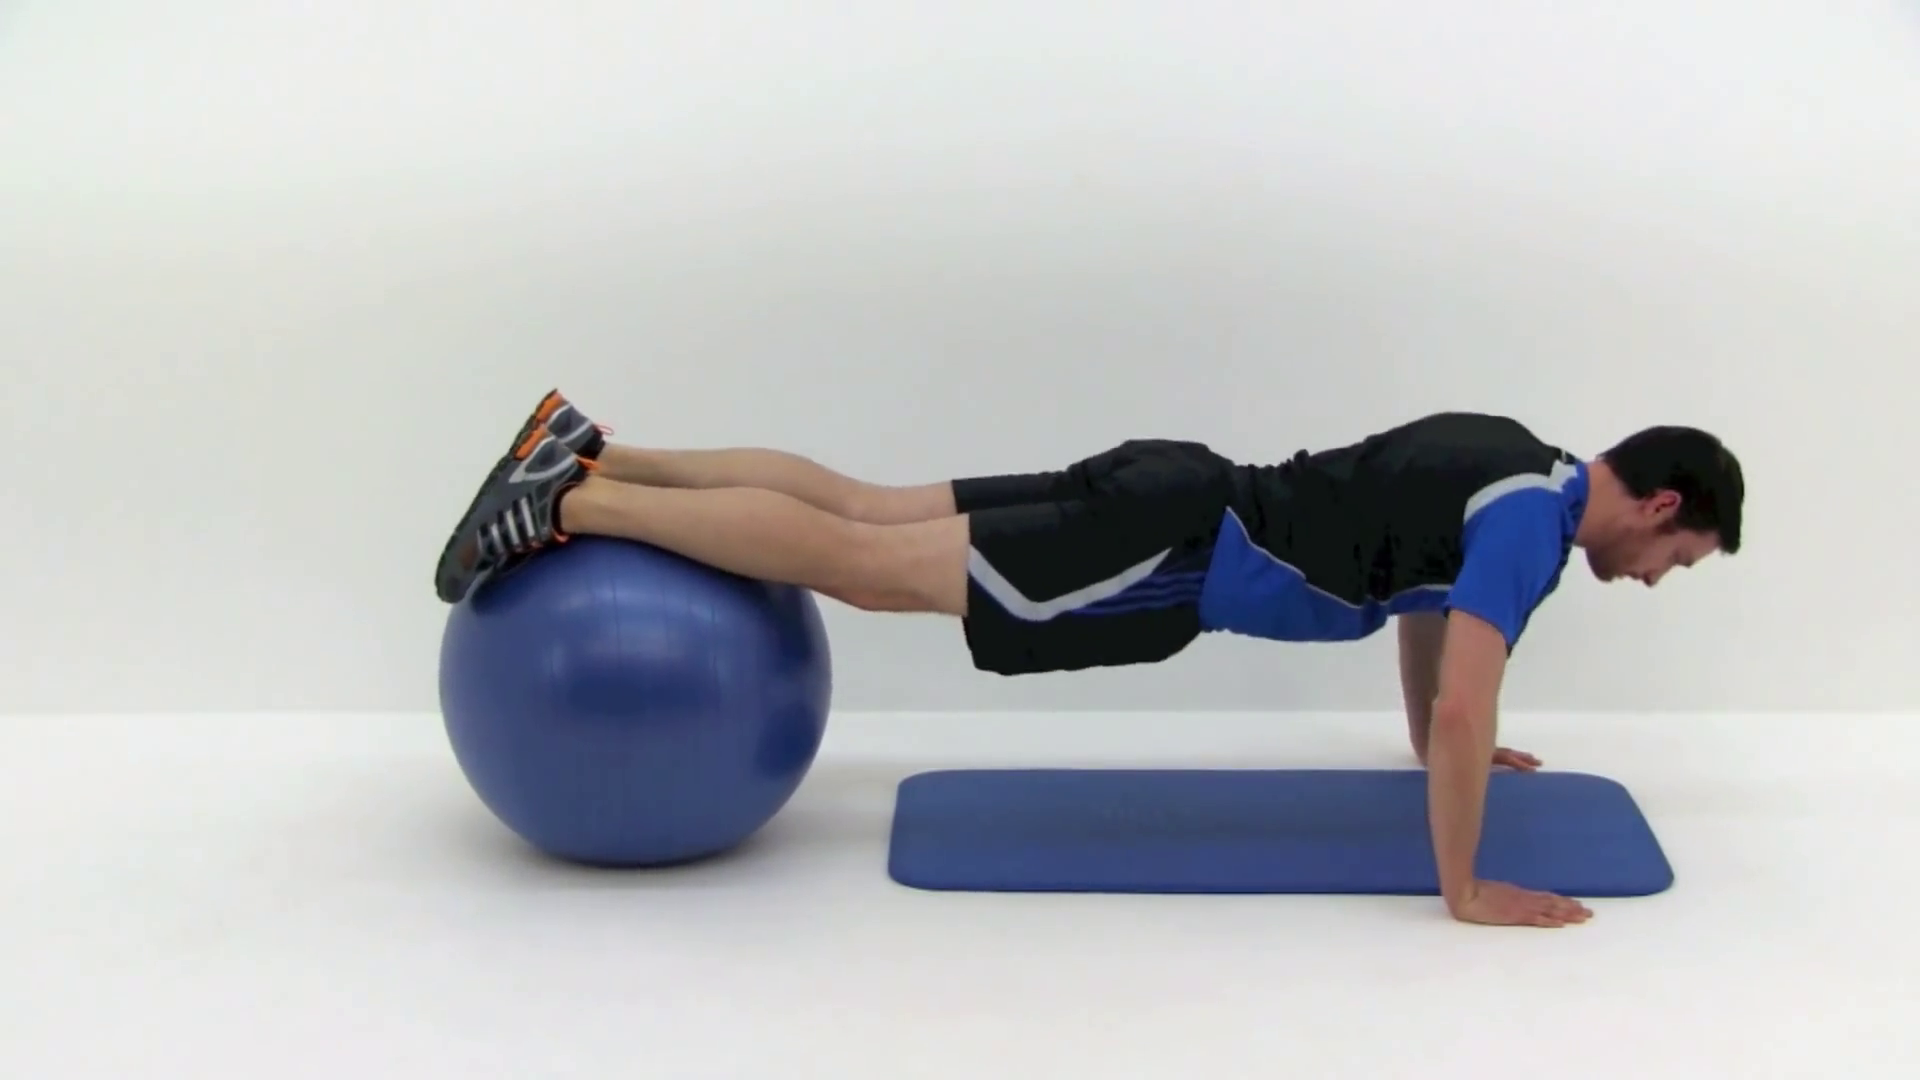yogaball: (414, 530, 862, 903)
